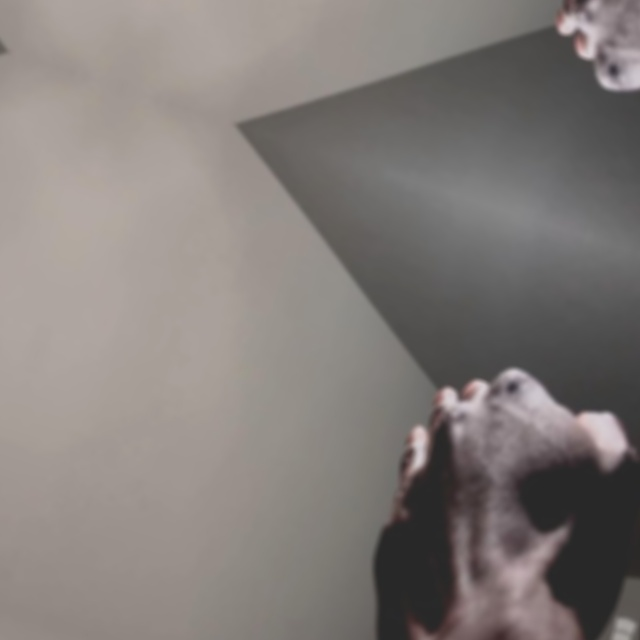Paper: (324, 341, 640, 640)
